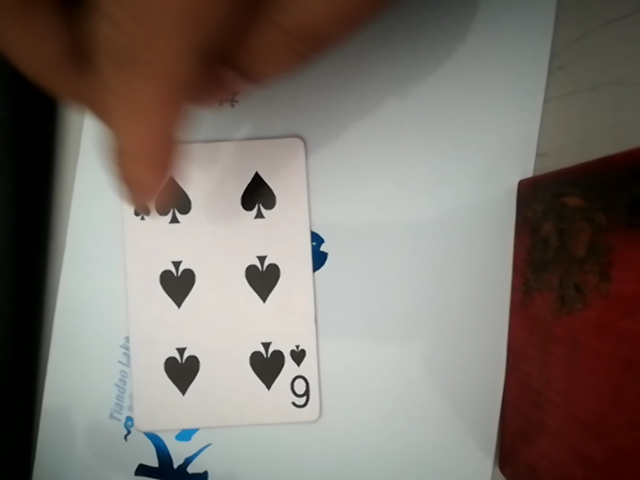ht 6: (126, 128, 324, 430)
